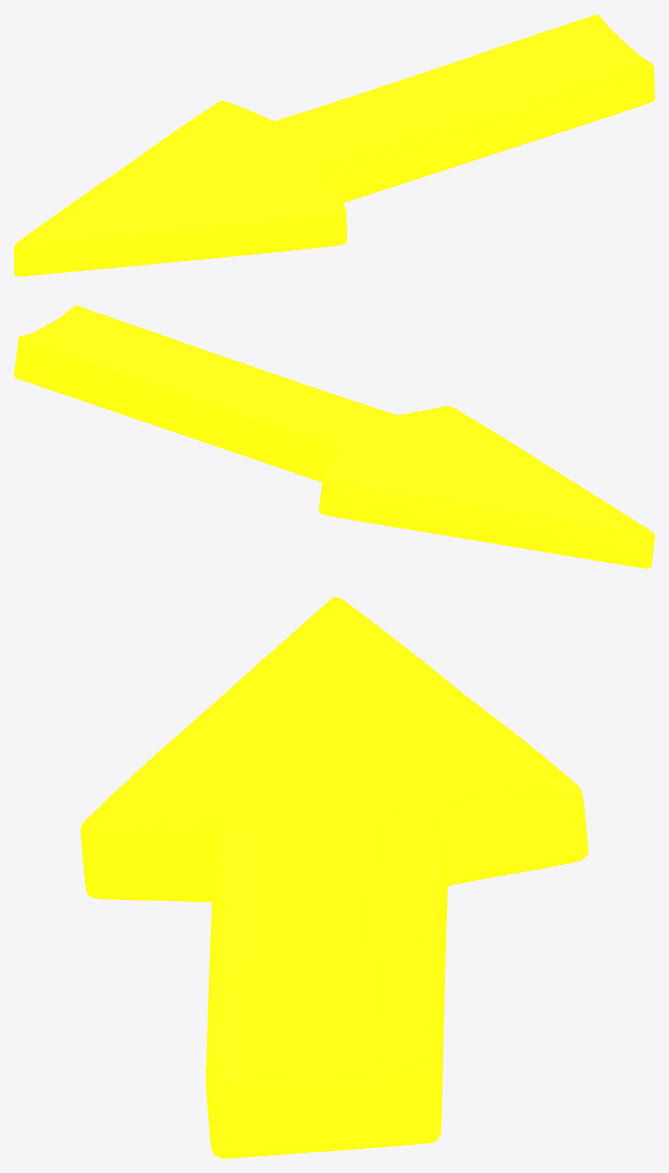
3 views of the same model, one above another, from view 1: azimuth 30°, elevation 25°; view 2: azimuth 150°, elevation 25°; view 3: azimuth 270°, elevation 25° (orthographic). The views are drawn at different scales.
Parts seen in each view (by area): view 1: Mesh_0.001; view 2: Mesh_0.001; view 3: Mesh_0.001.
Part boxes in pixels (x1,y1,x2,y2): Mesh_0.001: (14,14,654,276); Mesh_0.001: (14,305,654,568); Mesh_0.001: (80,597,588,1158).
Bounding box in the file's own units: 2 × 0.3121 × 0.7189.
